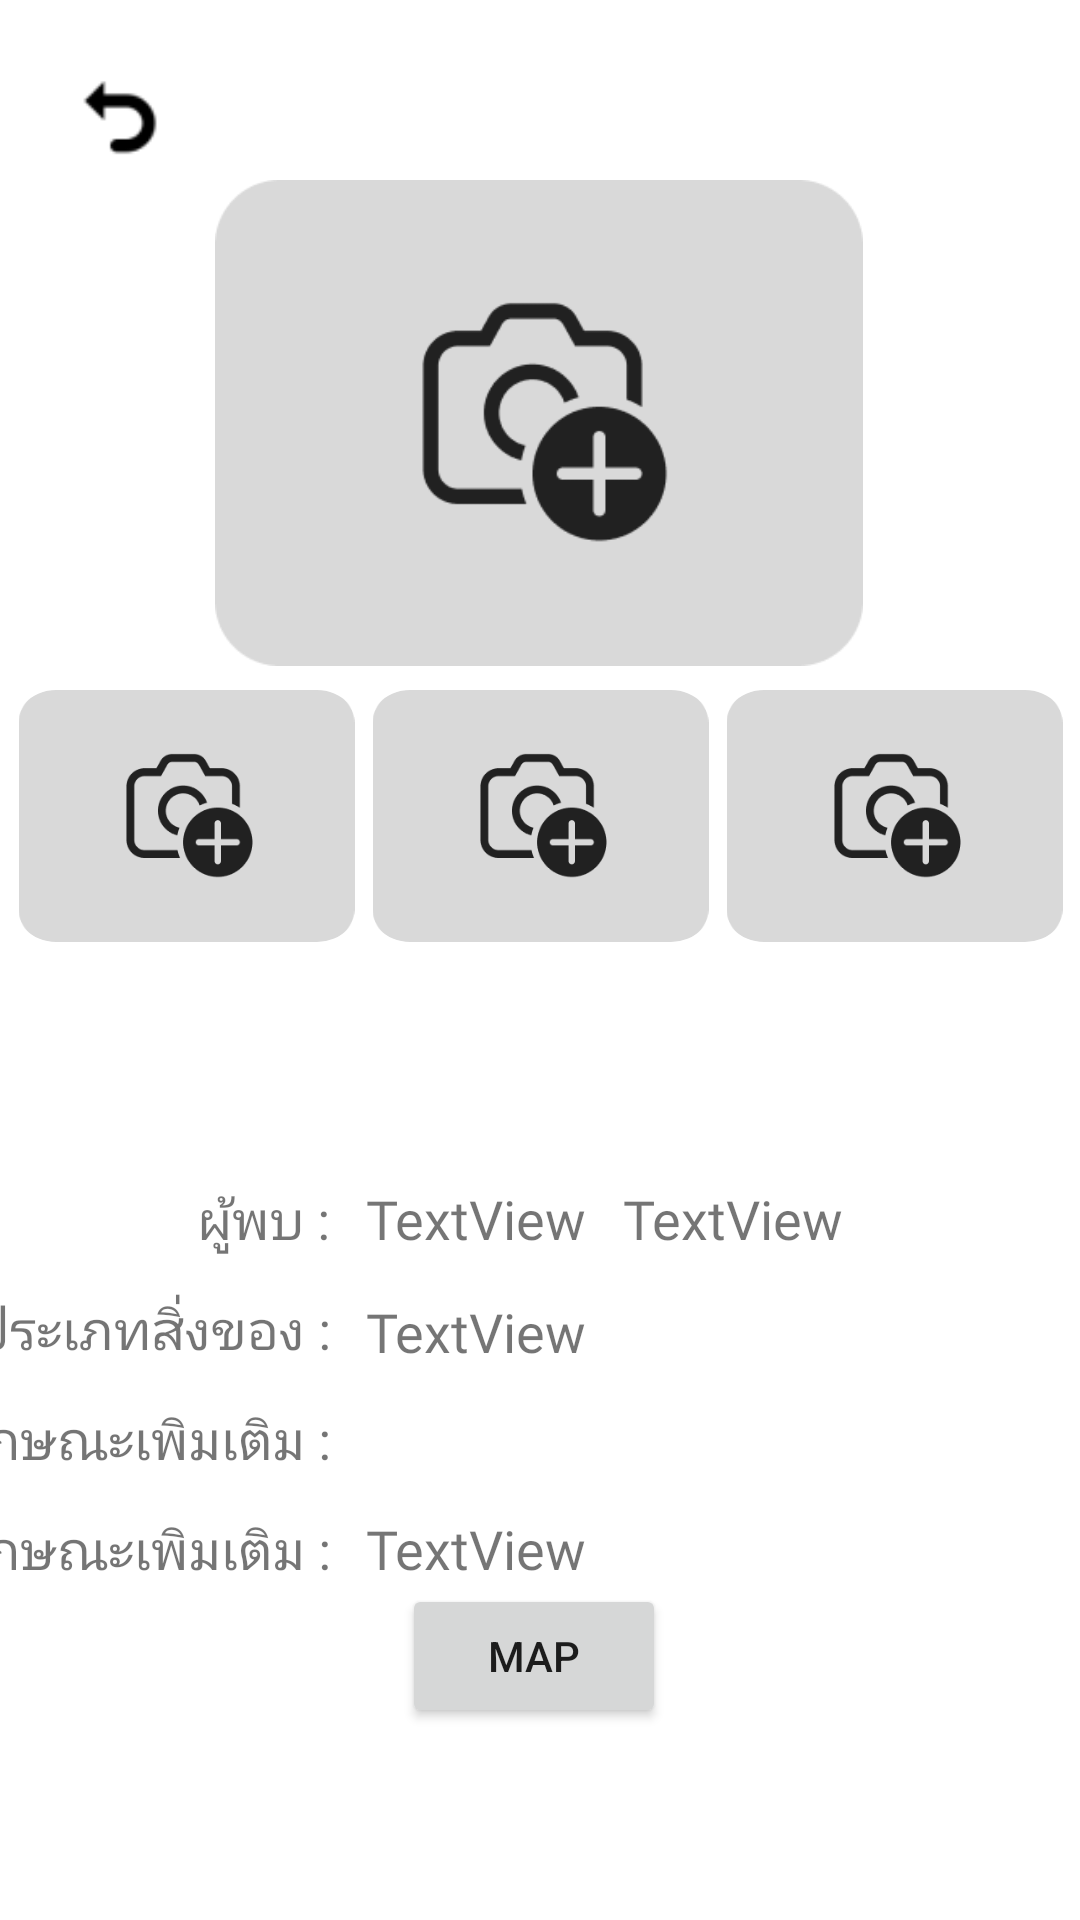

Icon click points for this 1080*1920 phone screenshot, format (x,y):
undo: (120,117)
